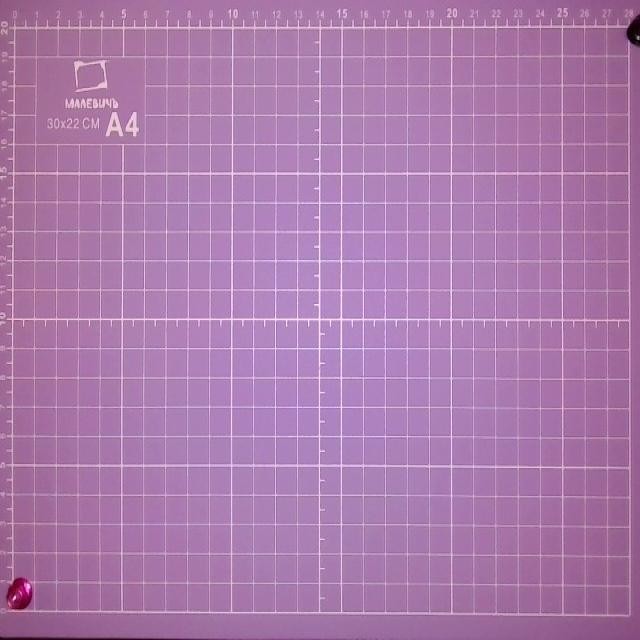screw_M5: (4, 575, 39, 614), (628, 10, 640, 52)
